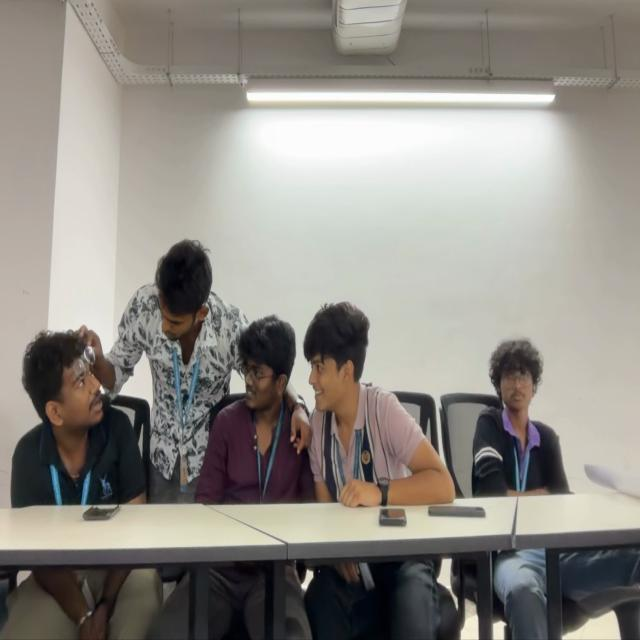Isolated: (476, 340, 569, 493)
socializing: (18, 239, 453, 506)
